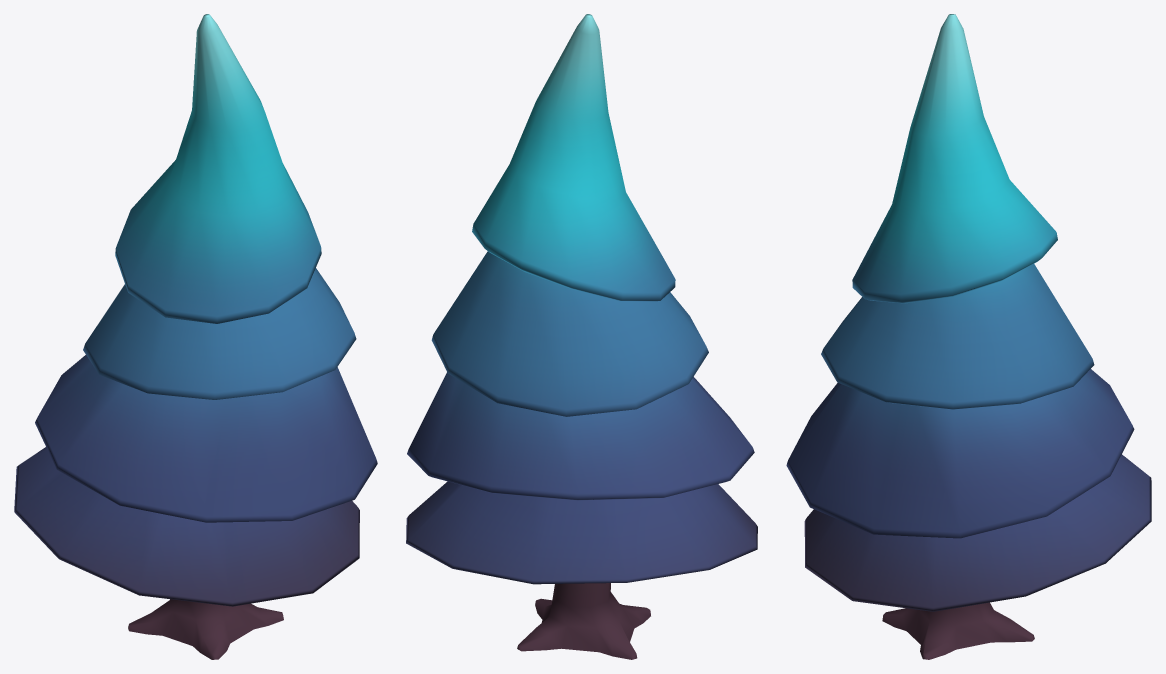
The model's file is tree_pack_15.glb.
3 views of the same model, side by side, from view 1: azimuth 30°, elevation 25°; view 2: azimuth 150°, elevation 25°; view 3: azimuth 270°, elevation 25° (orthographic).
Visible parts, largest first — view 1: Tree.015; view 2: Tree.015; view 3: Tree.015.
Boxes of the visible parts, left/top/right/bottom form: Tree.015: left=14, top=14, right=377, bottom=659; Tree.015: left=406, top=14, right=757, bottom=659; Tree.015: left=786, top=14, right=1151, bottom=659.
Bounding box in the file's own units: 2.82 × 5.34 × 2.86.
1 material, 1 textured.
